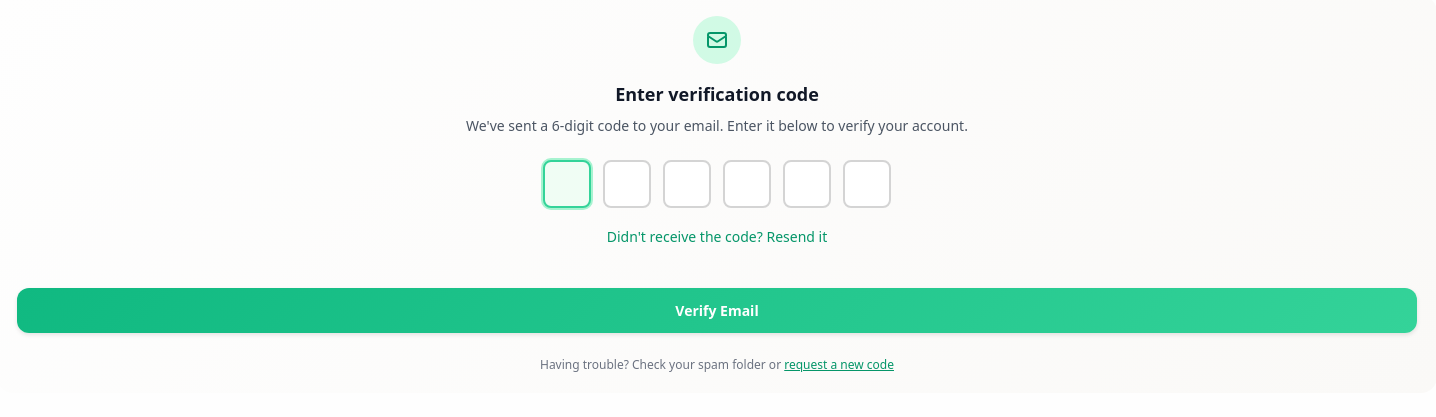
EmailVerificationClient › handles network errors gracefully
Type "1" into the field named "Verification code digit 1".
click(567, 184); type("1")  # box [543,160,591,208]
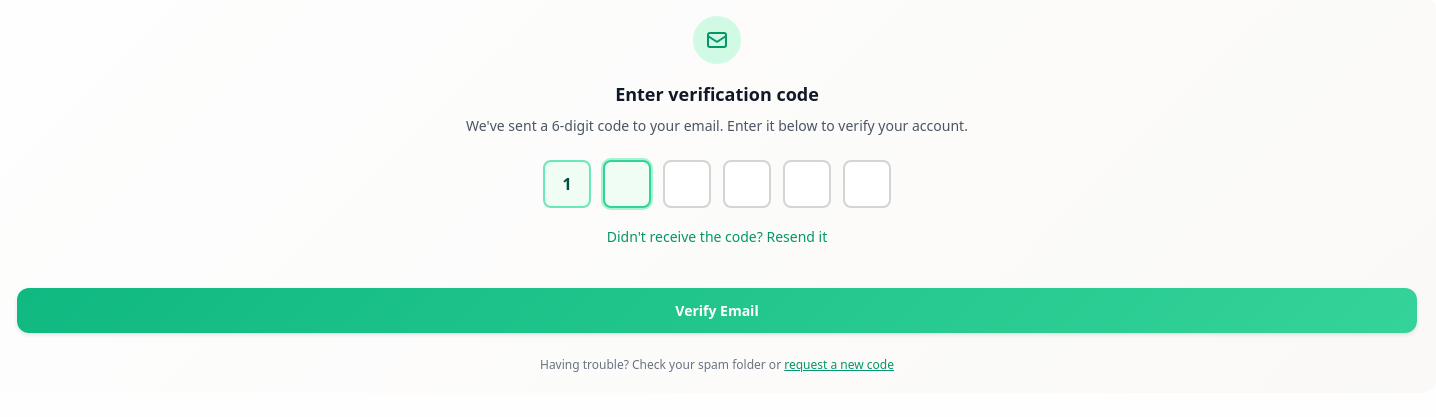
Type "2" into the field named "Verification code digit 2".
click(627, 184); type("2")  # box [603,160,651,208]
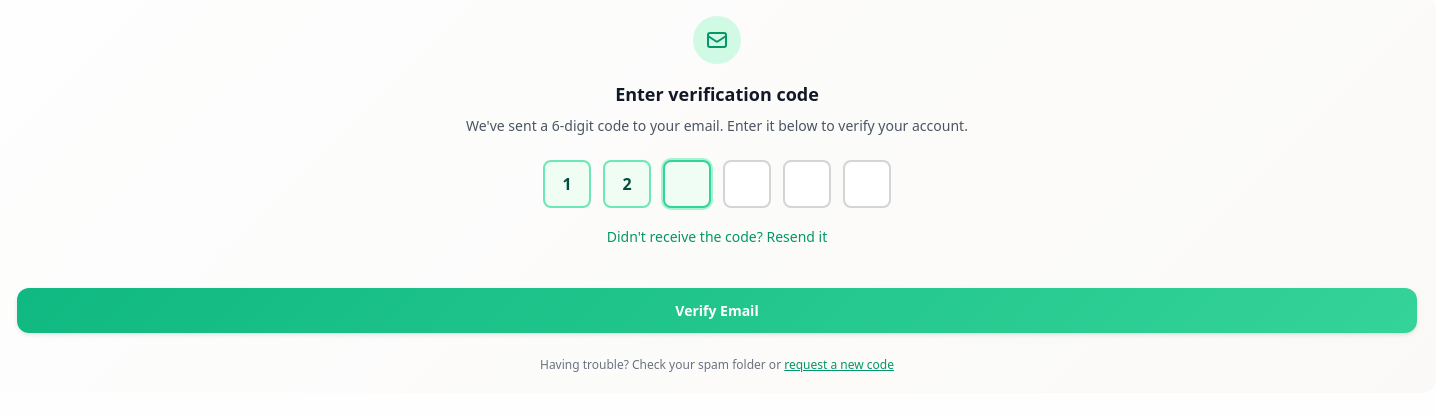
Type "3" into the field named "Verification code digit 3".
click(687, 184); type("3")  # box [663,160,711,208]
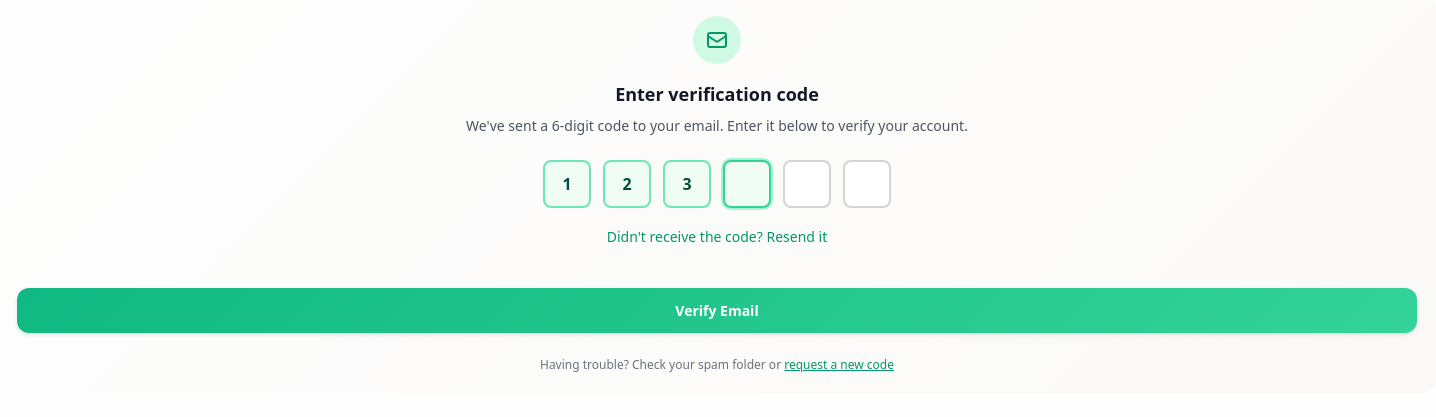
Type "4" into the field named "Verification code digit 4".
click(747, 184); type("4")  # box [723,160,771,208]
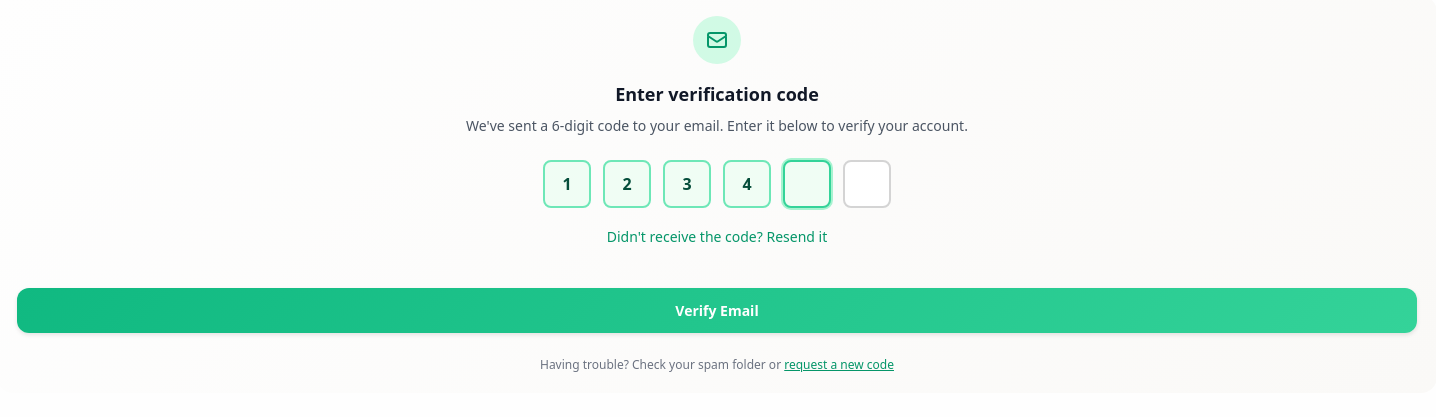
Type "5" into the field named "Verification code digit 5".
click(807, 184); type("5")  # box [783,160,831,208]
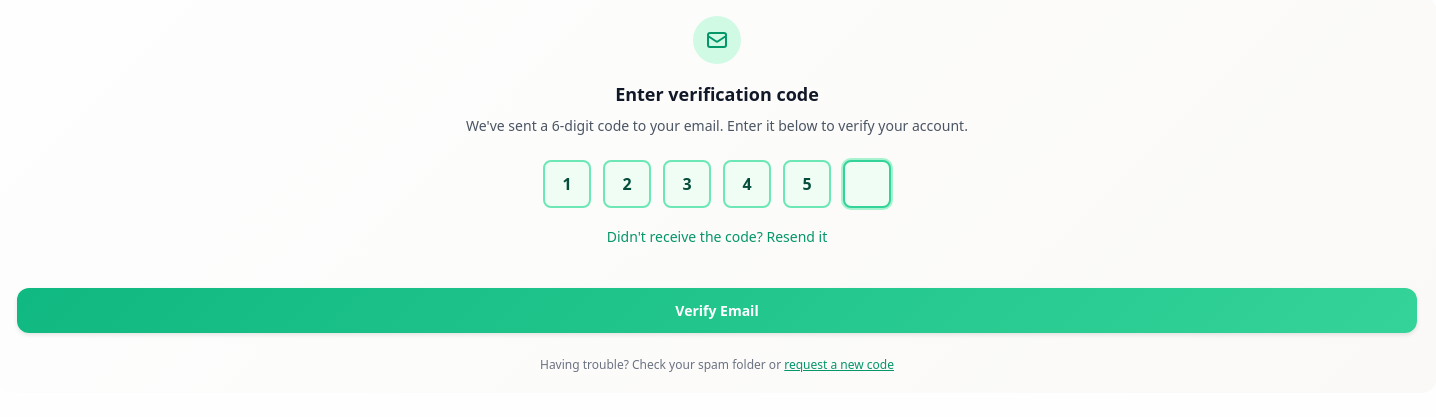
Type "6" into the field named "Verification code digit 6".
click(867, 184); type("6")  # box [843,160,891,208]
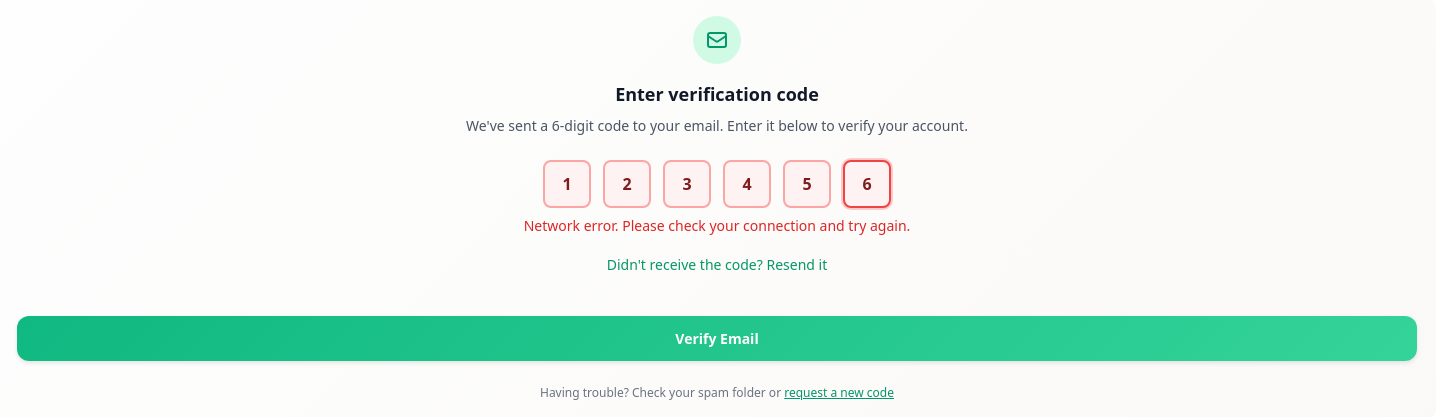
Expected: the text "Network error. Please check your connection and try again." is shown, [524,216,910,235]
